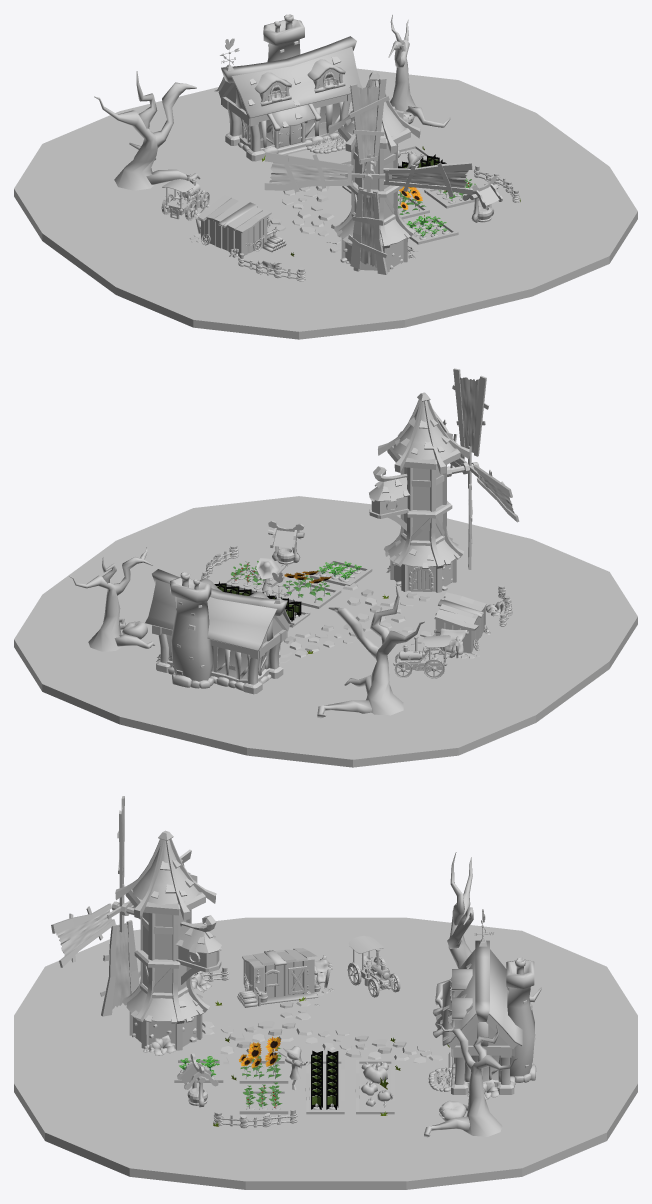
Rendered from Rasstanovka.fbx.
3 renders of one model, top to bottom at view 1: azimuth 30°, elevation 25°; view 2: azimuth 150°, elevation 25°; view 3: azimuth 270°, elevation 25°, orthographic. The views are drawn at different scales.
Visible parts, largest first — view 1: Plane.002, Circle.003, Circle.001, Circle.012, Circle.004, Circle.043, Circle.015, Circle.006, Plane.003, Circle.040; view 2: Plane.002, Circle.003, Circle.001, Circle.004, Circle.012, Circle.043, Circle.006, Circle.015, Plane.003, Circle.040, Circle.044, carrot; view 3: Plane.002, Circle.003, Circle.001, Circle.012, Circle.006, Circle.043, Plane.003, Circle.015, Circle.004, carrot, Circle.044, Circle.040 (+4 smaller).
Boxes of the visible parts, <box> form: Plane.002: <box>14,68,637,339</box>; Circle.003: <box>264,72,472,274</box>; Circle.001: <box>214,14,362,161</box>; Circle.012: <box>189,194,286,257</box>; Circle.004: <box>94,71,200,190</box>; Circle.043: <box>388,15,450,127</box>; Circle.015: <box>161,173,209,220</box>; Circle.006: <box>270,155,421,252</box>; Plane.003: <box>348,148,469,240</box>; Circle.040: <box>463,176,502,222</box>; Plane.002: <box>14,496,637,767</box>; Circle.003: <box>369,368,519,592</box>; Circle.001: <box>145,569,294,694</box>; Circle.004: <box>317,586,424,718</box>; Circle.012: <box>411,592,490,658</box>; Circle.043: <box>68,547,155,651</box>; Circle.006: <box>279,574,431,663</box>; Circle.015: <box>393,635,450,678</box>; Plane.003: <box>228,563,364,622</box>; Circle.040: <box>268,520,304,564</box>; Circle.044: <box>282,570,331,602</box>; carrot: <box>214,581,301,621</box>; Plane.002: <box>14,917,637,1189</box>; Circle.003: <box>51,796,221,1050</box>; Circle.001: <box>428,909,536,1094</box>; Circle.012: <box>237,948,334,1007</box>; Circle.006: <box>199,1000,442,1069</box>; Circle.043: <box>424,1023,517,1137</box>; Plane.003: <box>178,1062,391,1113</box>; Circle.015: <box>347,936,400,997</box>; Circle.004: <box>435,852,541,1007</box>; carrot: <box>311,1050,338,1109</box>; Circle.044: <box>239,1036,281,1079</box>; Circle.040: <box>177,1053,218,1107</box>.
Bounding box in the file's own units: 8146 × 3261 × 8146.
